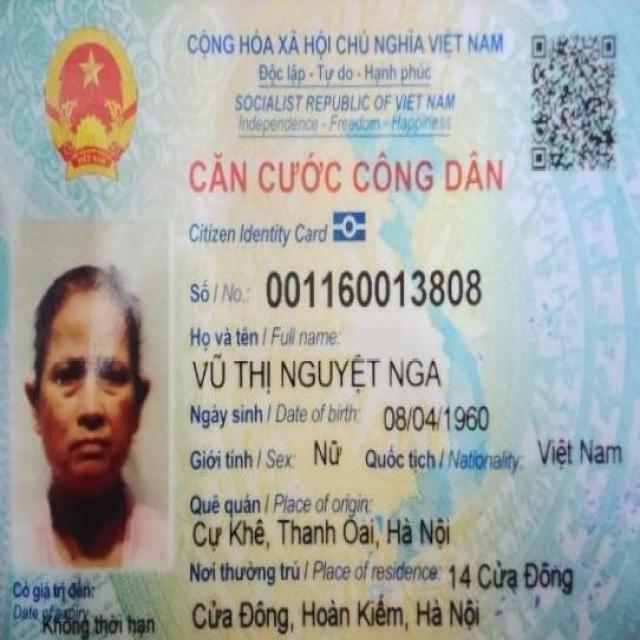current_place: (191, 597, 485, 634), (447, 560, 579, 594)
dob: (382, 401, 494, 434)
expire_date: (43, 613, 158, 640)
gender: (313, 436, 346, 468)
id: (265, 268, 483, 311)
name: (191, 353, 444, 393)
nationality: (535, 436, 627, 471)
origin_place: (190, 516, 454, 550)
qr: (524, 26, 619, 178)
